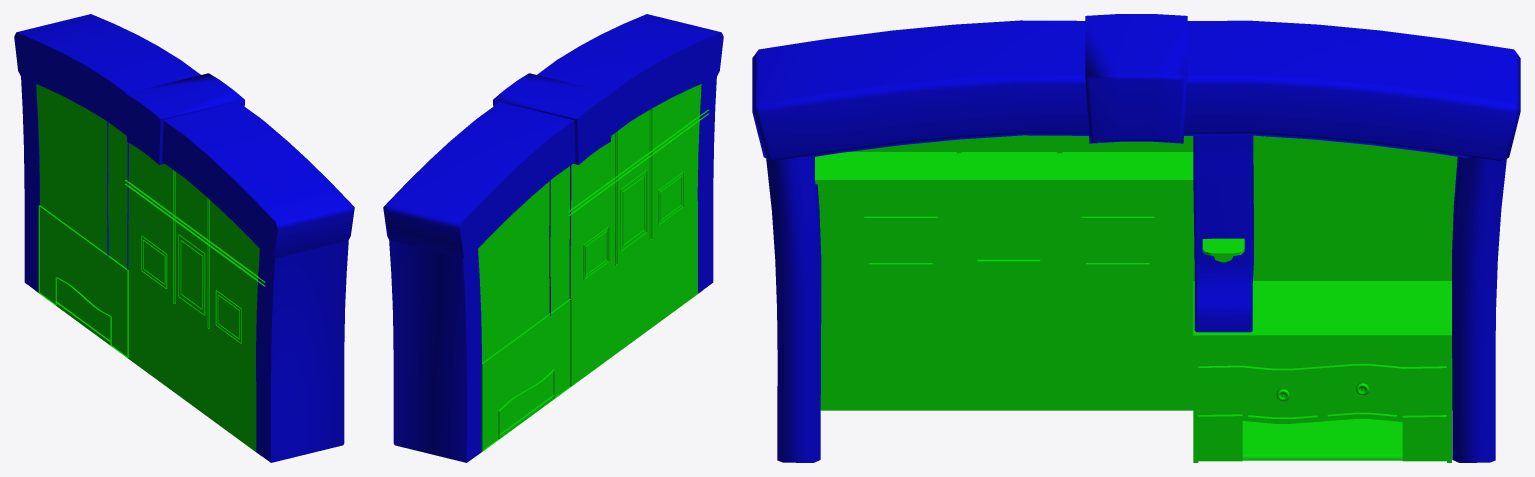
File: kitchen_walls.fbx
The picture shows the model from 3 angles, left to right: view 1: azimuth 30°, elevation 25°; view 2: azimuth 150°, elevation 25°; view 3: azimuth 270°, elevation 25°; orthographic projection. The views are drawn at different scales.
Parts seen in each view (by area): view 1: Walls_v2:polySurface294, Walls_v2:polySurface307; view 2: Walls_v2:polySurface294, Walls_v2:polySurface307; view 3: Walls_v2:polySurface307, Walls_v2:polySurface294.
Part boxes in pixels (x1,y1,x2,y2): Walls_v2:polySurface294: (14,14,354,462); Walls_v2:polySurface307: (36,84,265,456); Walls_v2:polySurface294: (383,14,723,462); Walls_v2:polySurface307: (477,84,708,455); Walls_v2:polySurface307: (815,135,1457,462); Walls_v2:polySurface294: (752,14,1520,462).
Bounding box in the file's own units: 0.6868 × 2.06 × 3.65.
